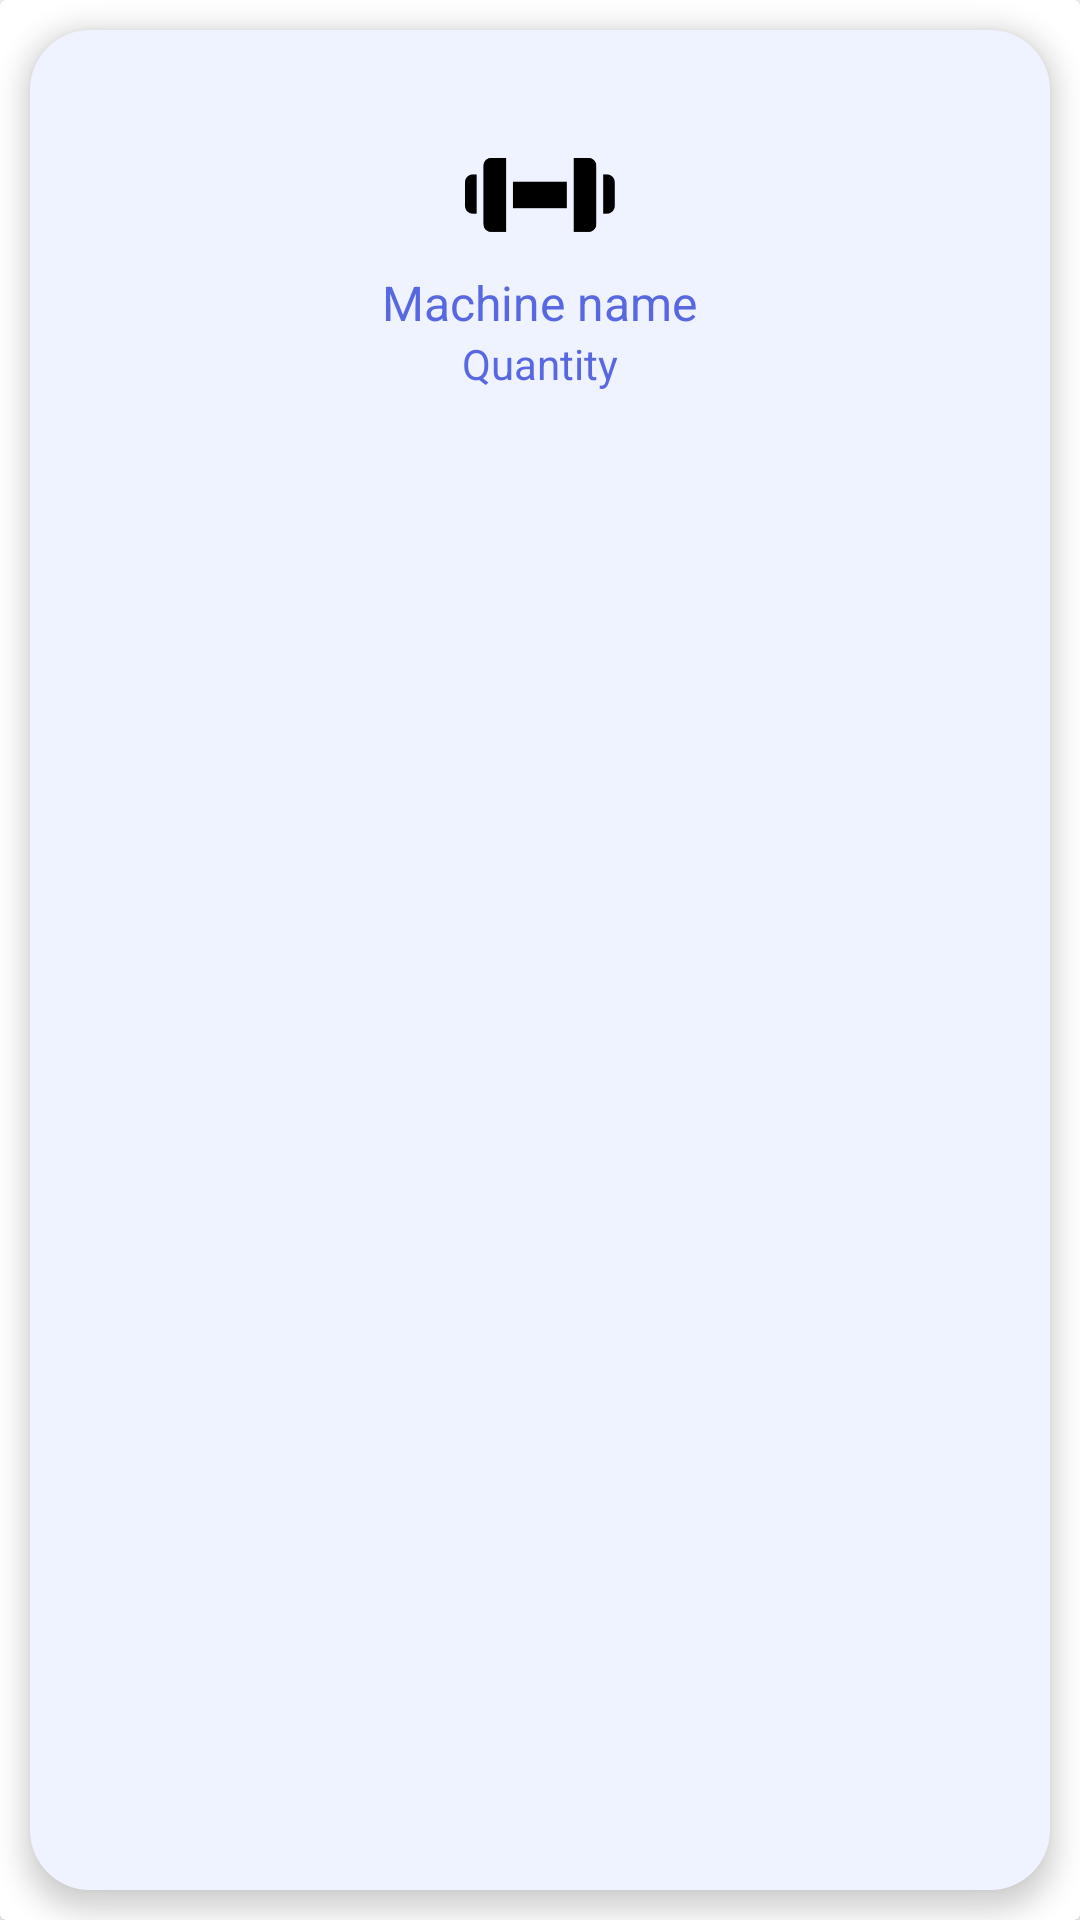

Icons on this 1080px x 1920px Android screen, each with its box as (x1, y1, x2, y2):
gym: (465, 158, 615, 232)
